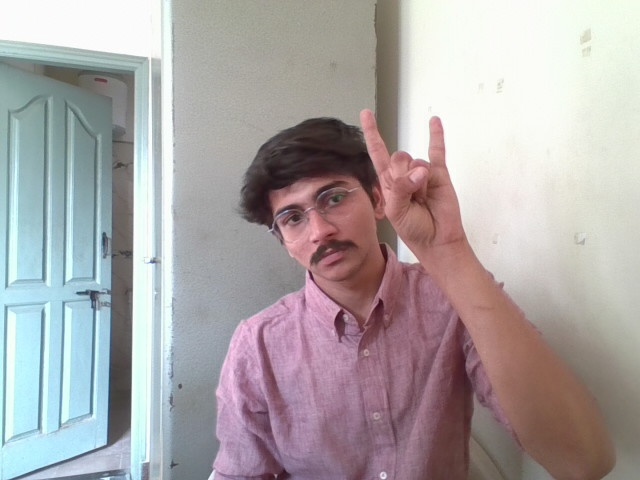iloveyou: (347, 96, 467, 243)
